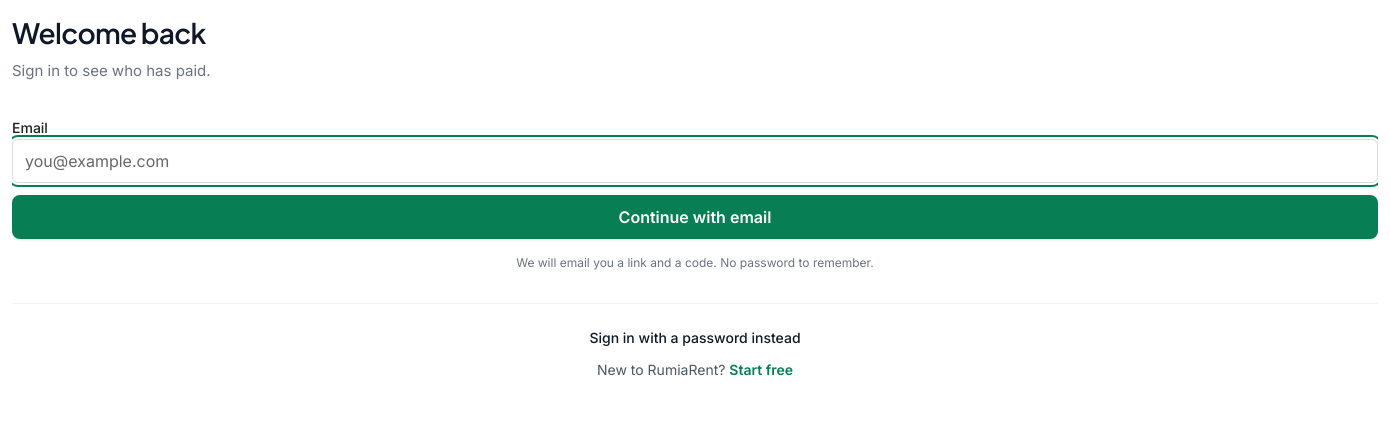
it: SignInFlow › does not send for an invalid address
Type "not-an-email" into the field labelled "Email" at coordinates (695, 160), box [12,138,1378,182]
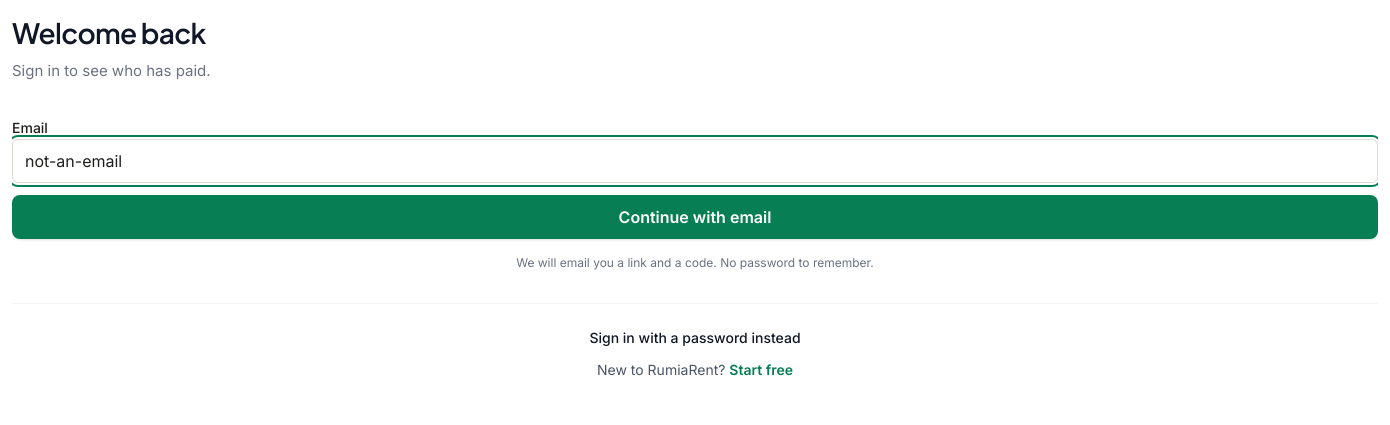
Click the button "Continue with email" at coordinates (695, 216), box [12,194,1378,238]
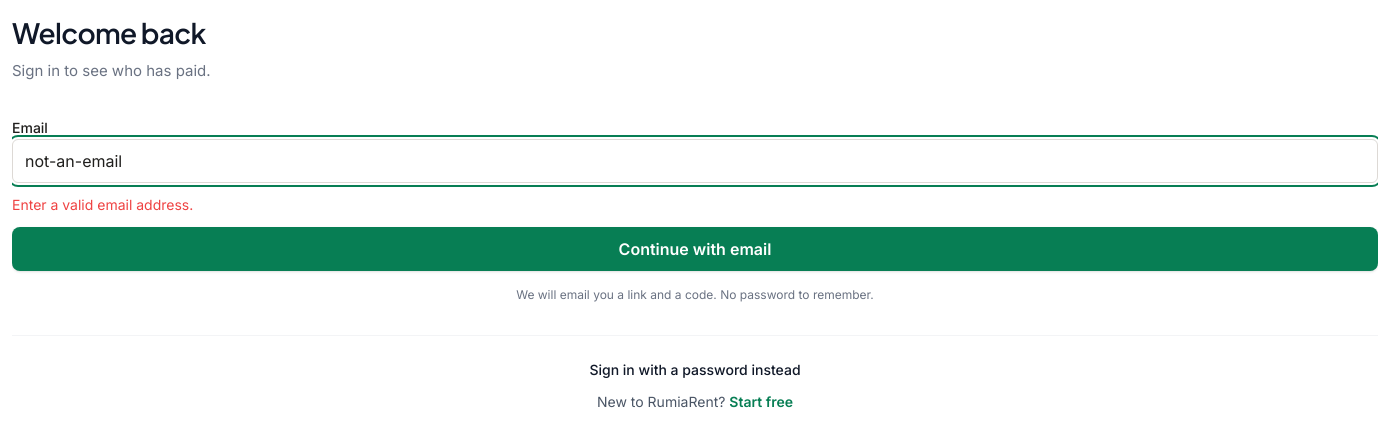
Expected: the message reads "Enter a valid email address.", [12,196,193,212]
